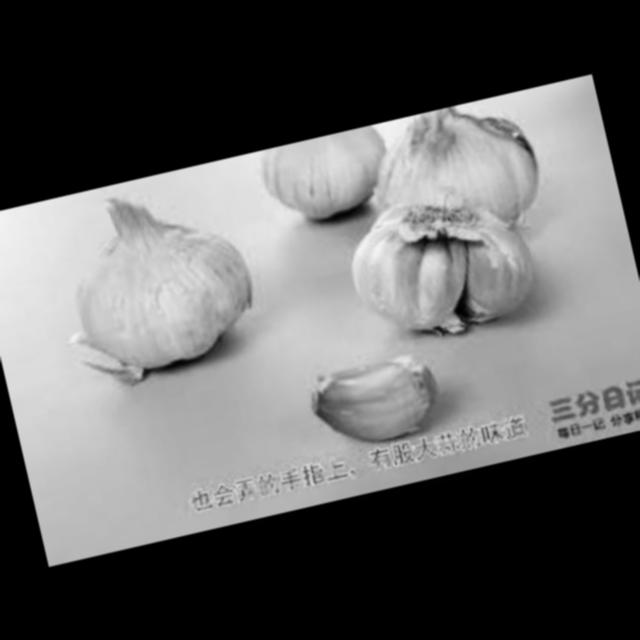garlic: (39, 161, 273, 386), (332, 172, 544, 357), (356, 90, 544, 250), (290, 337, 452, 463), (247, 122, 398, 230)
